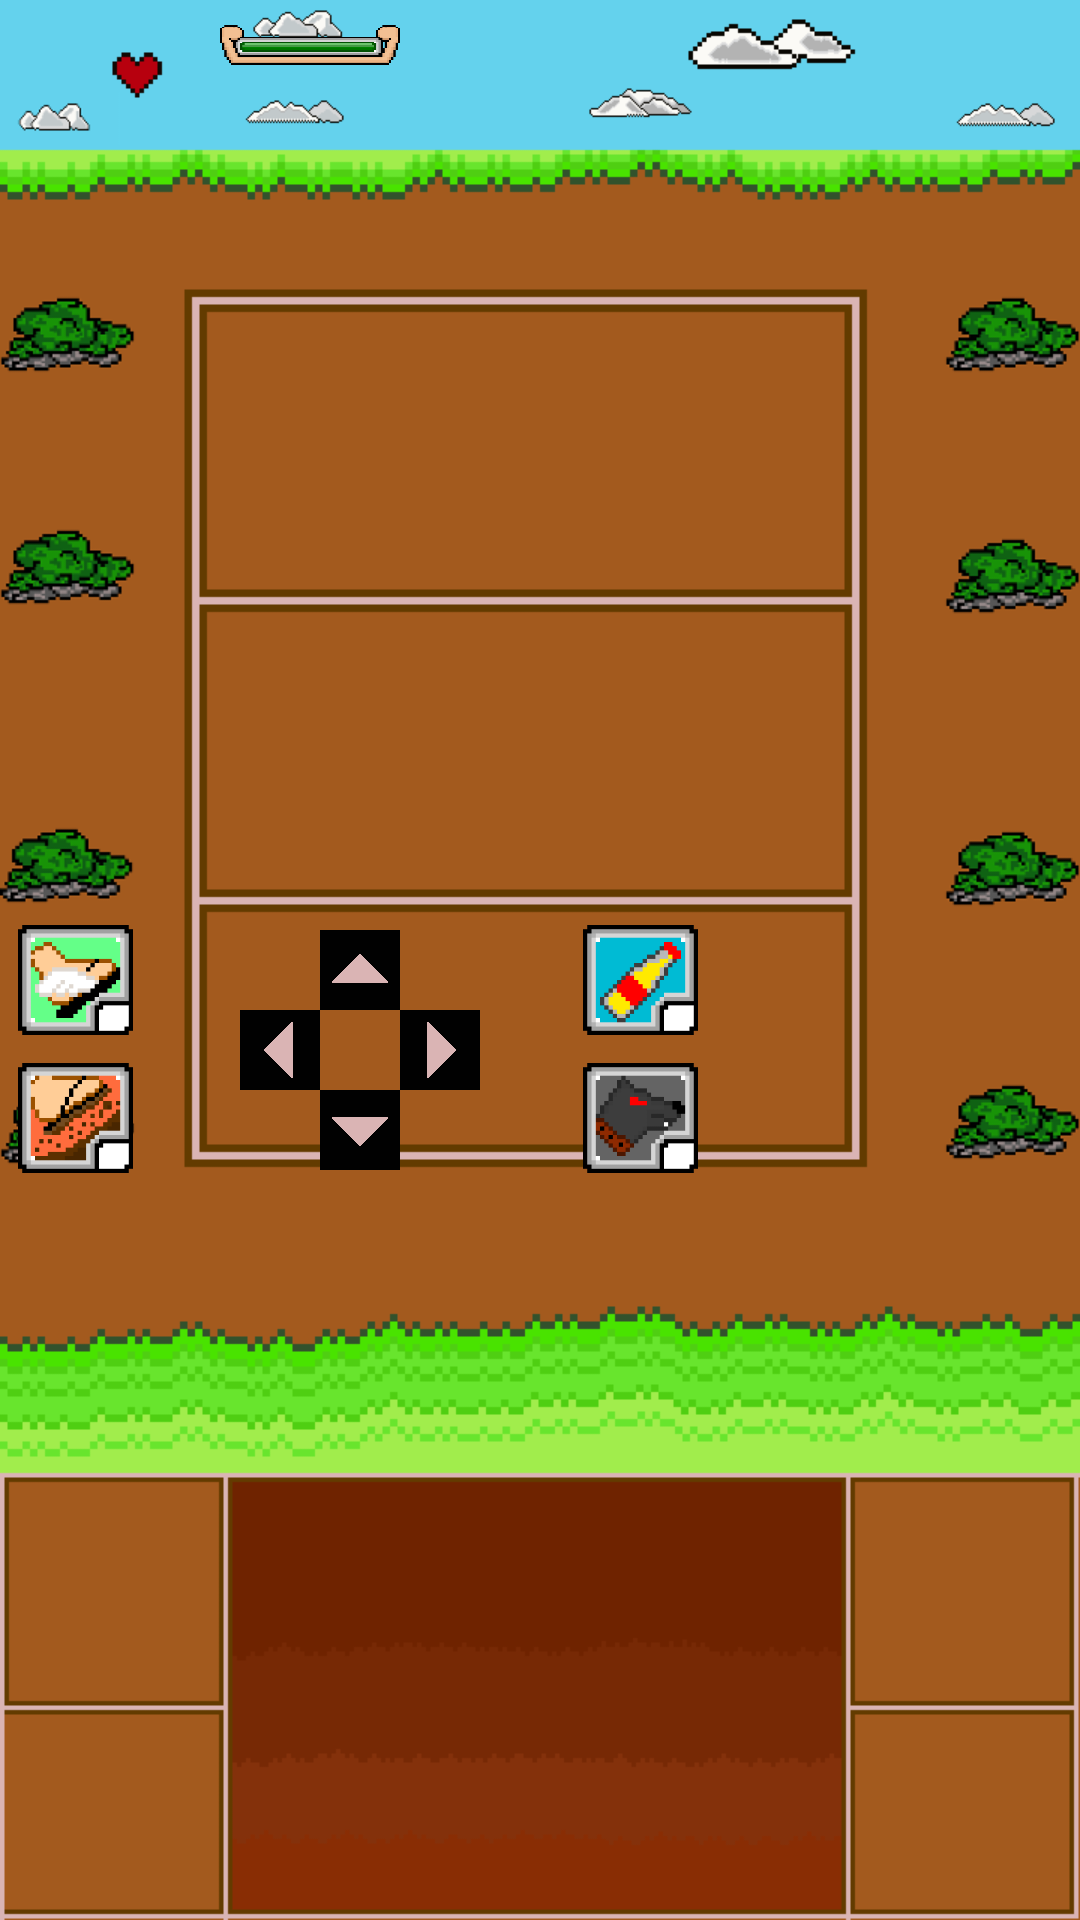

Point at icon controls on the screen. Image size 1080px x 1920px, points as (x,y).
arrow down: (360,1130)
arrow left: (280,1050)
arrow right: (440,1050)
arrow up: (360,970)
